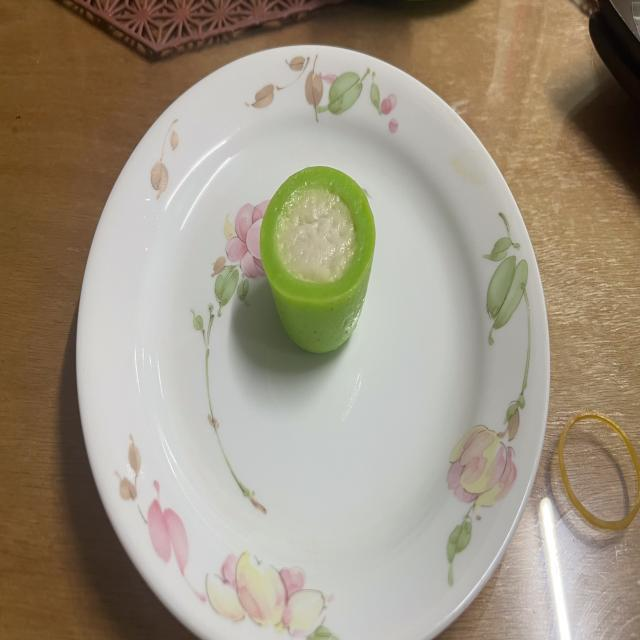nona-manis: (260, 167, 375, 353)
